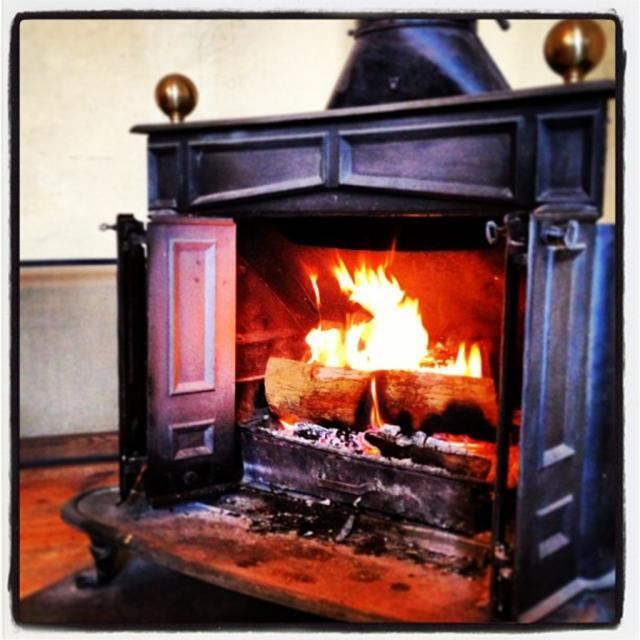Fire: (290, 247, 488, 376)
